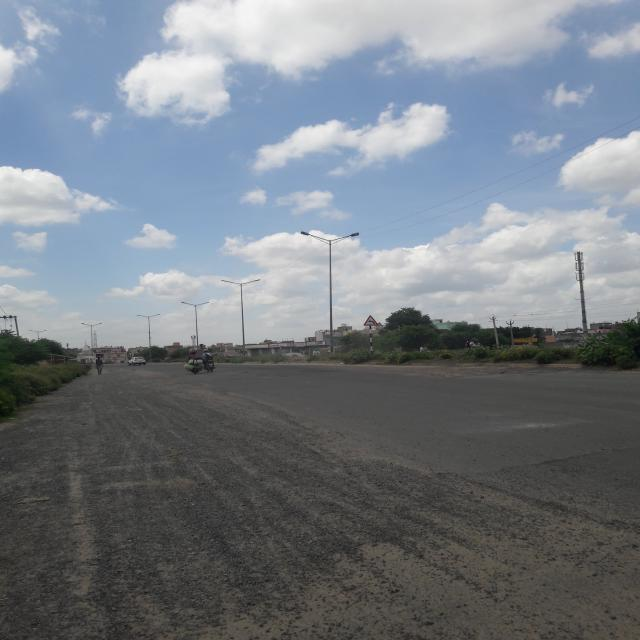left hand curve: (363, 315, 379, 326)
